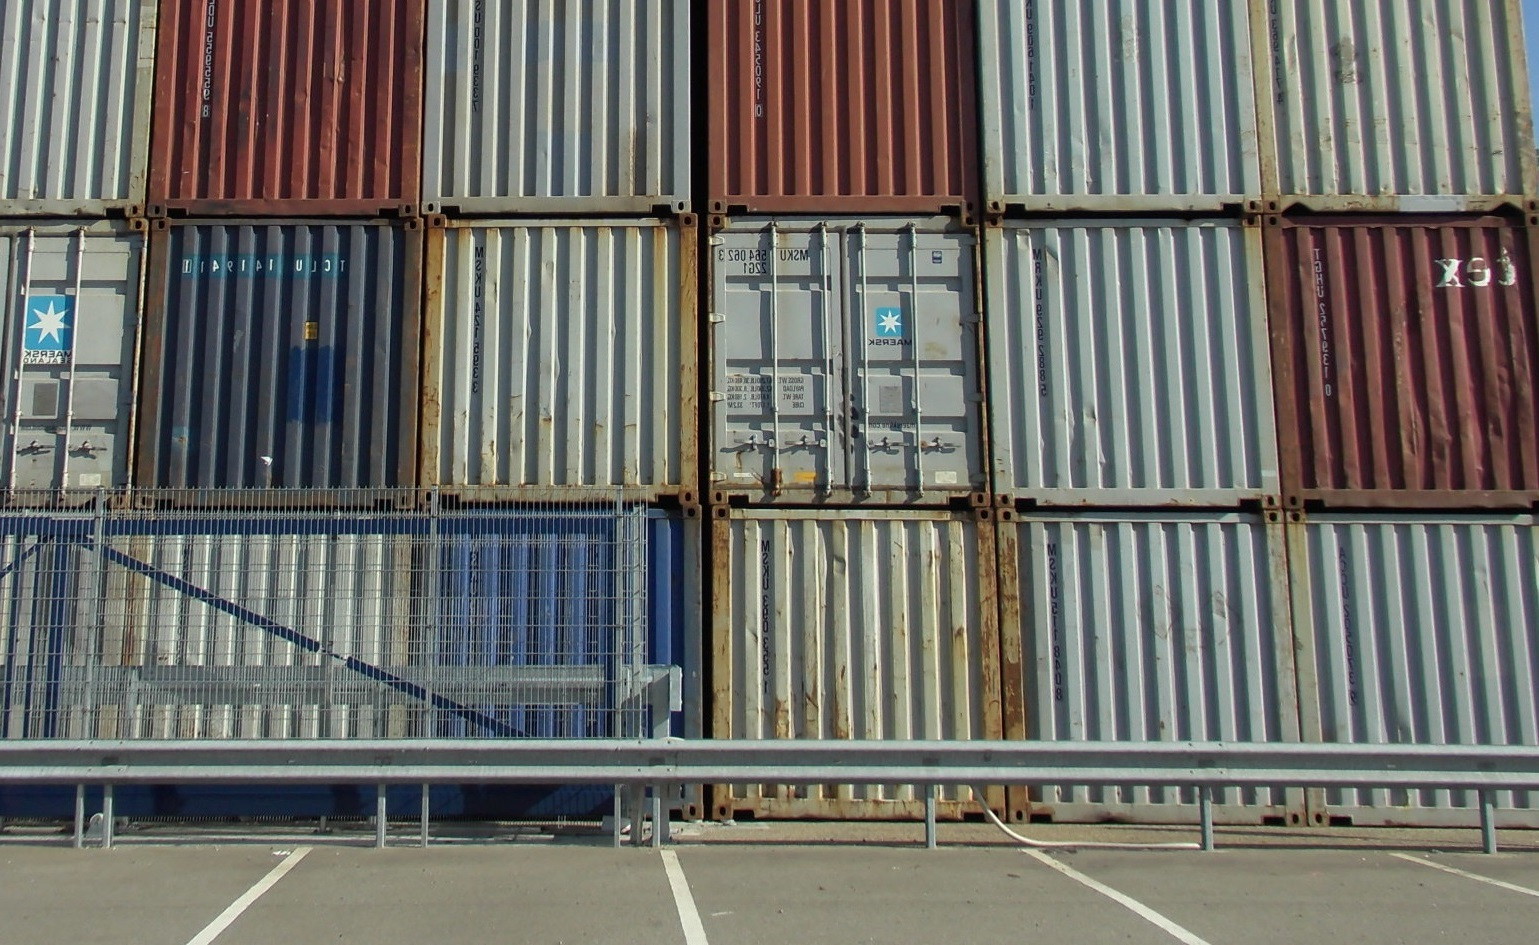container_door: (705, 215, 994, 502), (1, 211, 148, 500)
container_no_door: (707, 509, 1014, 824), (1001, 505, 1307, 822), (420, 224, 701, 507), (139, 220, 418, 503), (990, 213, 1270, 496), (1278, 215, 1539, 502), (1305, 505, 1539, 824), (144, 2, 427, 215), (701, 1, 979, 213), (986, 1, 1264, 213), (1256, 1, 1534, 213), (435, 1, 696, 211)
